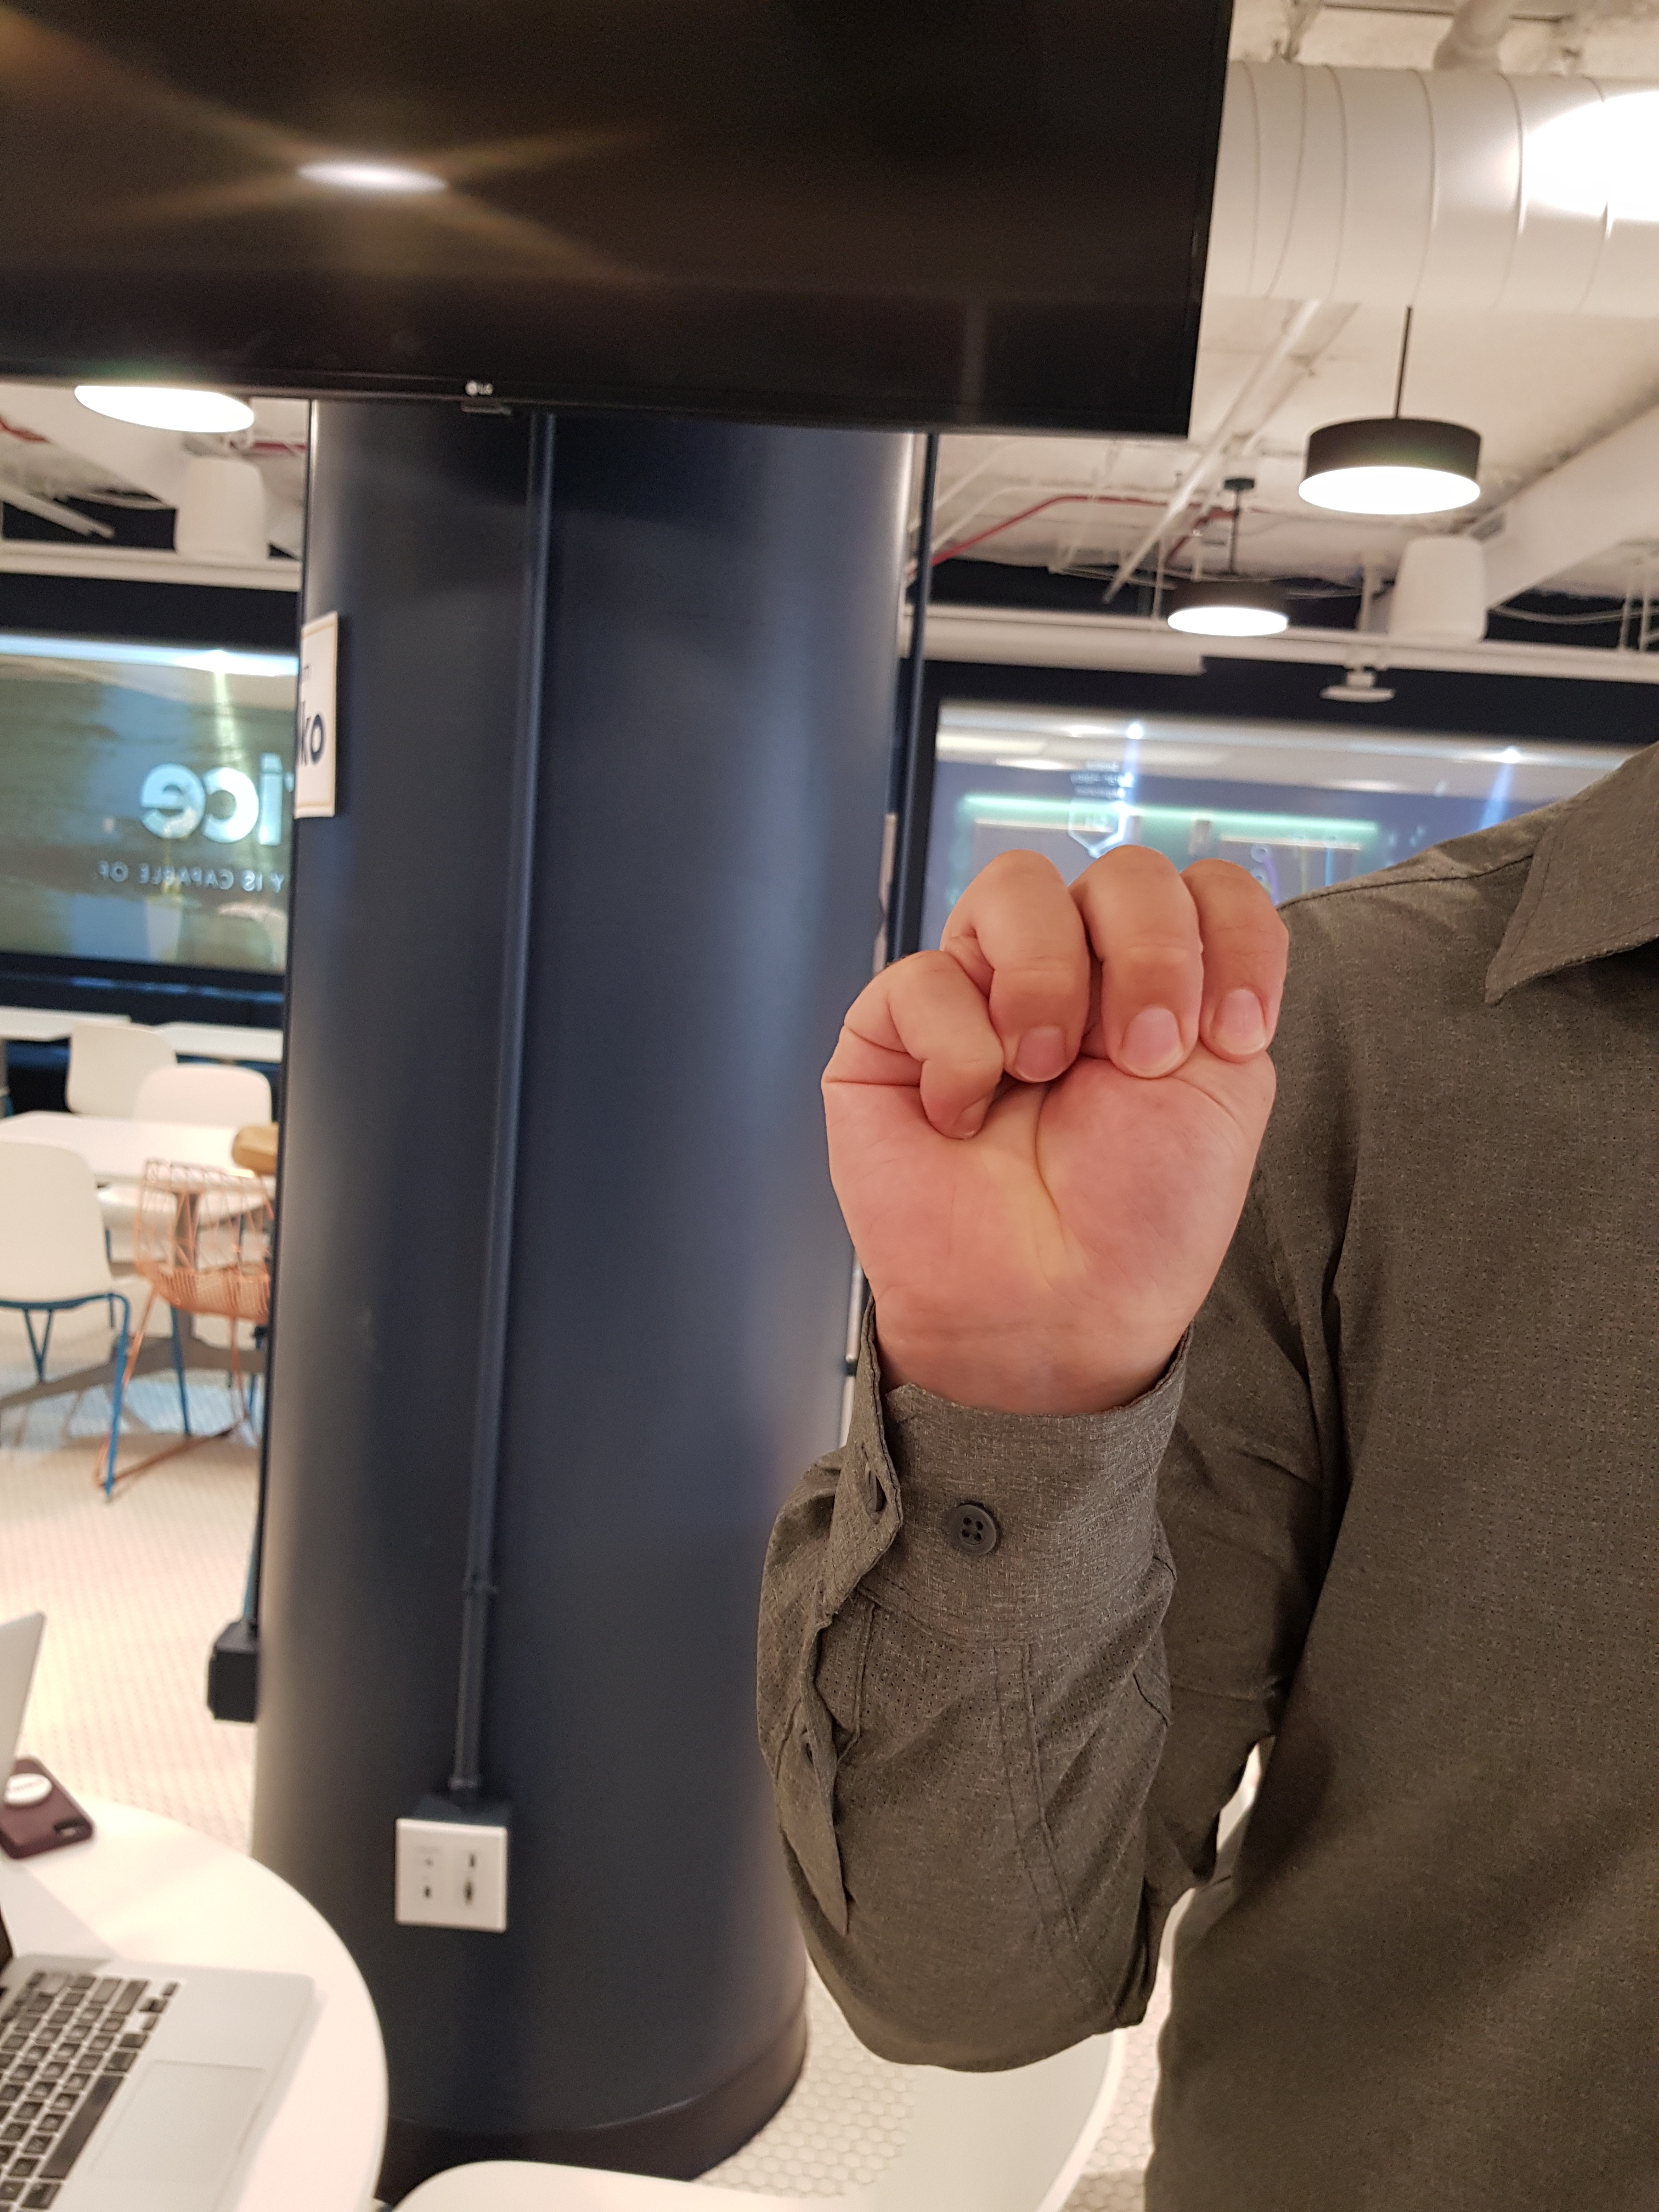m: (795, 803, 1314, 1414)
